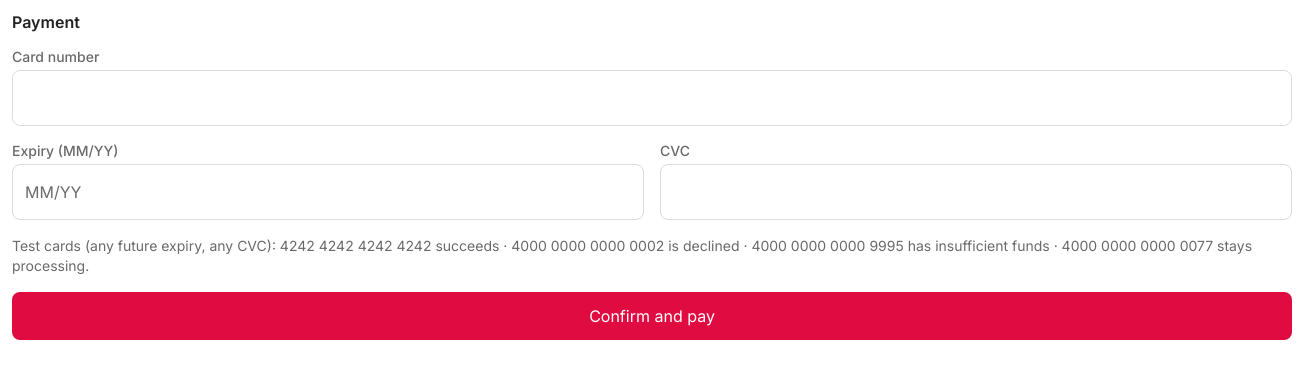
Test: ConfirmBookingButton › a failed booking refreshes the listing's availability
In the field labelled "Card number": (652,98) [12, 70, 1292, 126], type "4242 4242 4242 4242"
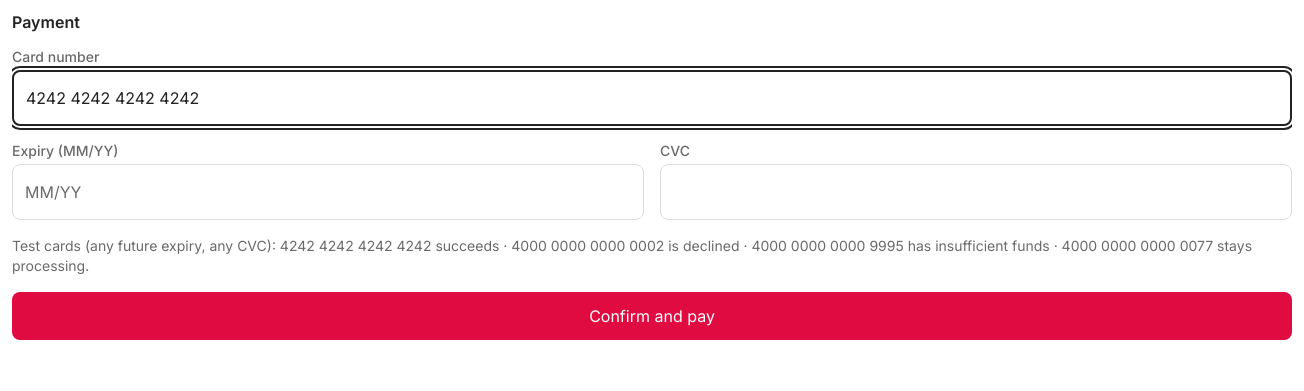
In the field labelled "Expiry (MM/YY)": (328,192) [12, 164, 644, 220], type "12/30"
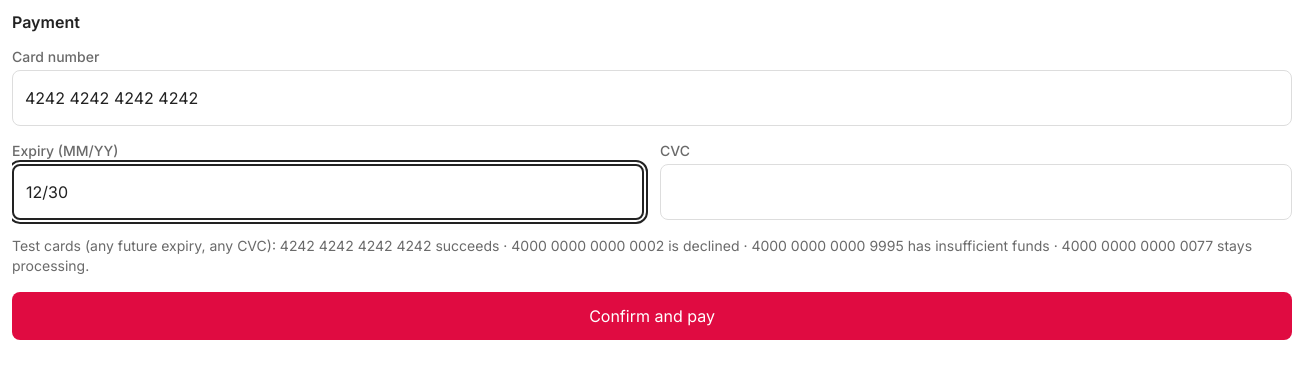
In the field labelled "CVC": (976,192) [660, 164, 1292, 220], type "123"
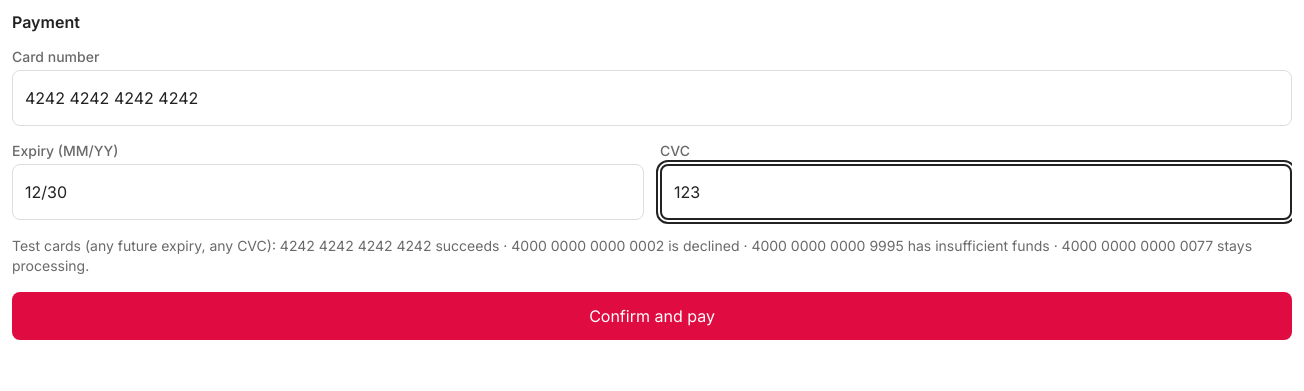
Click the button "Confirm and pay": (652,316) [12, 292, 1292, 340]
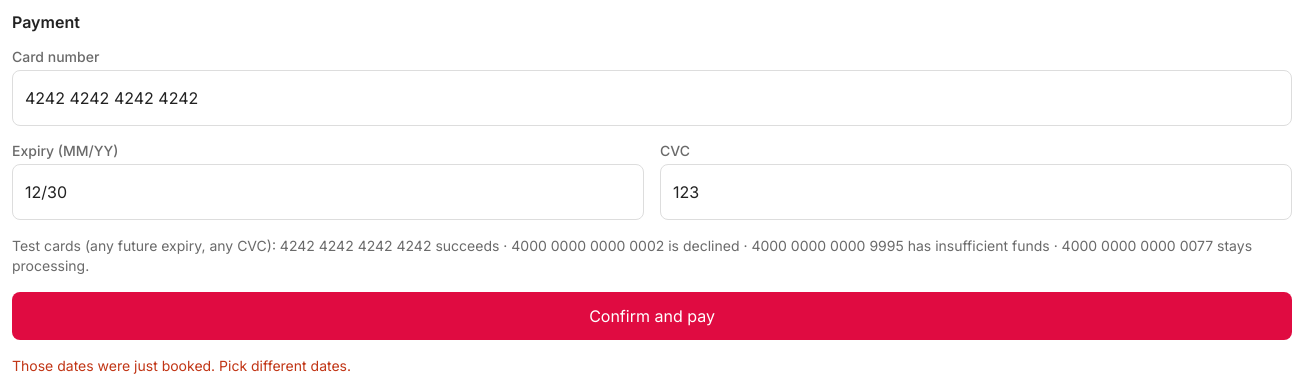
expect the message "Those dates were just booked. Pick different dates." is shown: met, box [12, 357, 351, 374]
